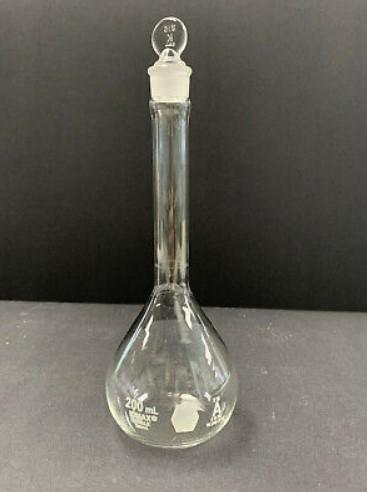Volumetric flask: (96, 14, 242, 449)
